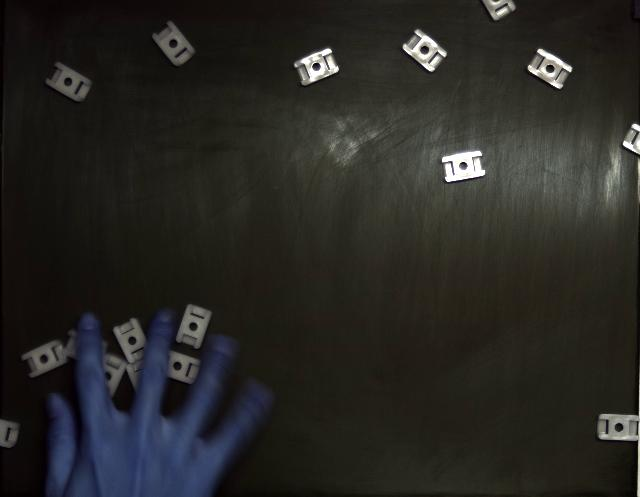second_side: (152, 21, 196, 66), (402, 29, 446, 72), (45, 62, 92, 102), (21, 340, 69, 379), (528, 49, 572, 89), (294, 49, 339, 86), (176, 305, 212, 349), (442, 151, 485, 182), (598, 414, 640, 441)
